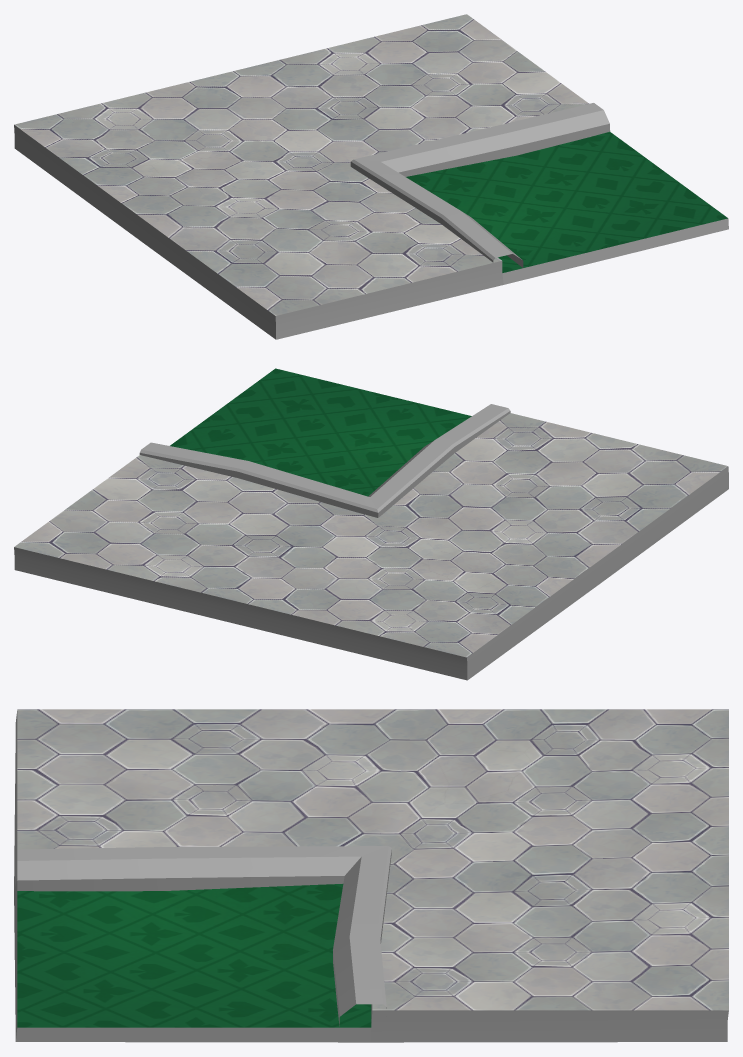
File: Pavement_OuterCorner.fbx
The picture shows the model from 3 angles, top to bottom: view 1: azimuth 30°, elevation 25°; view 2: azimuth 150°, elevation 25°; view 3: azimuth 270°, elevation 25°; orthographic projection. The views are drawn at different scales.
Visible parts, largest first — view 1: W_Sidewalk_OuterCorner_LP; view 2: W_Sidewalk_OuterCorner_LP; view 3: W_Sidewalk_OuterCorner_LP.
Boxes of the visible parts, x1,y1,x2,y2 form: W_Sidewalk_OuterCorner_LP: (14, 14, 728, 339); W_Sidewalk_OuterCorner_LP: (14, 368, 728, 680); W_Sidewalk_OuterCorner_LP: (14, 709, 728, 1042).
Bounding box in the file's own units: 201 × 12.91 × 201.
